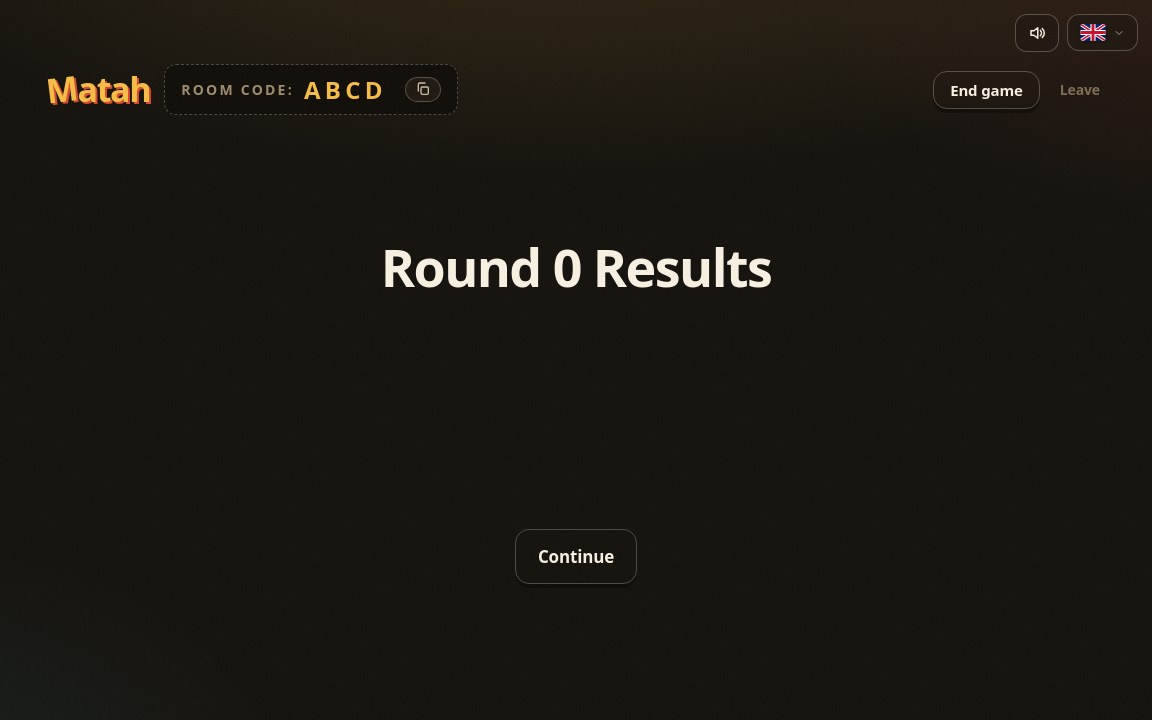
HostScreen header › lets a cancelled end-game dialog go away without ending anything
Click the button "End game".
click(986, 90)  # box [933,70,1040,108]
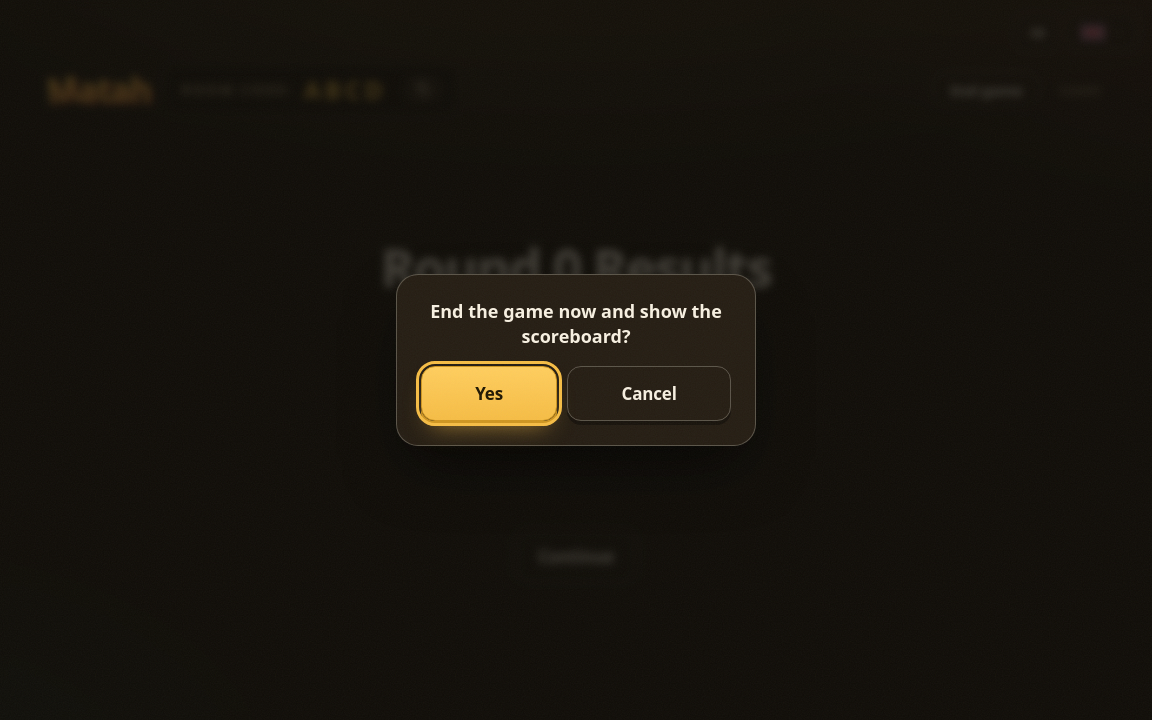
Click the button "Cancel".
click(649, 393)  # box [567,366,731,421]
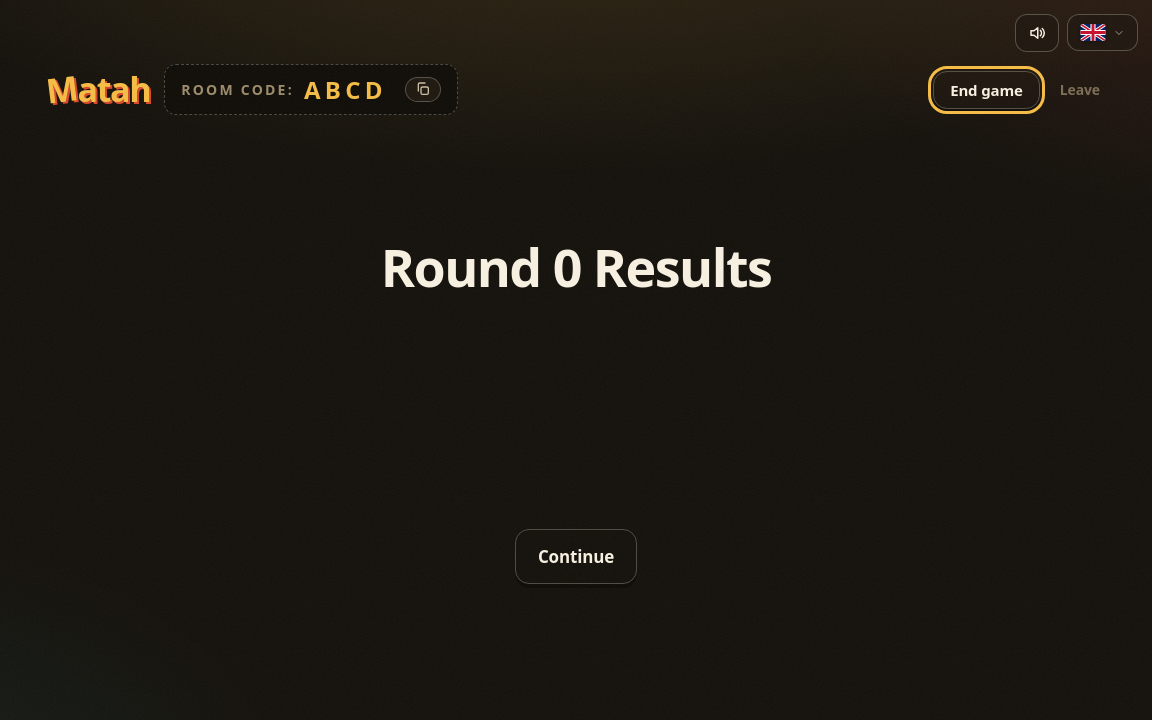
Check: the dialog is gone
